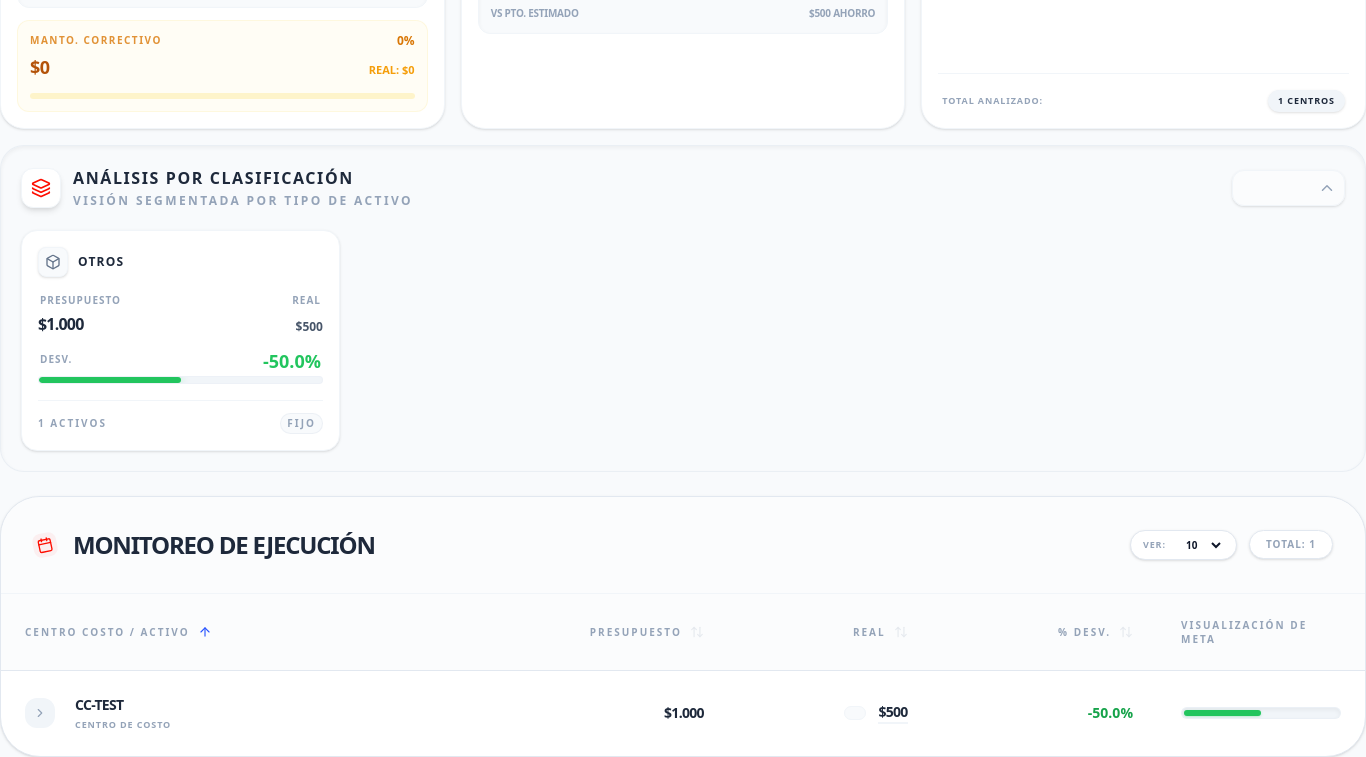
Test case: ExecutionMonitor Component › debe renderizar datos correctamente y agrupar por Centro de Costo
(page scrolled)
Click the text "CC-TEST".
click(99, 705)  # box [75,695,123,714]
(page scrolled)
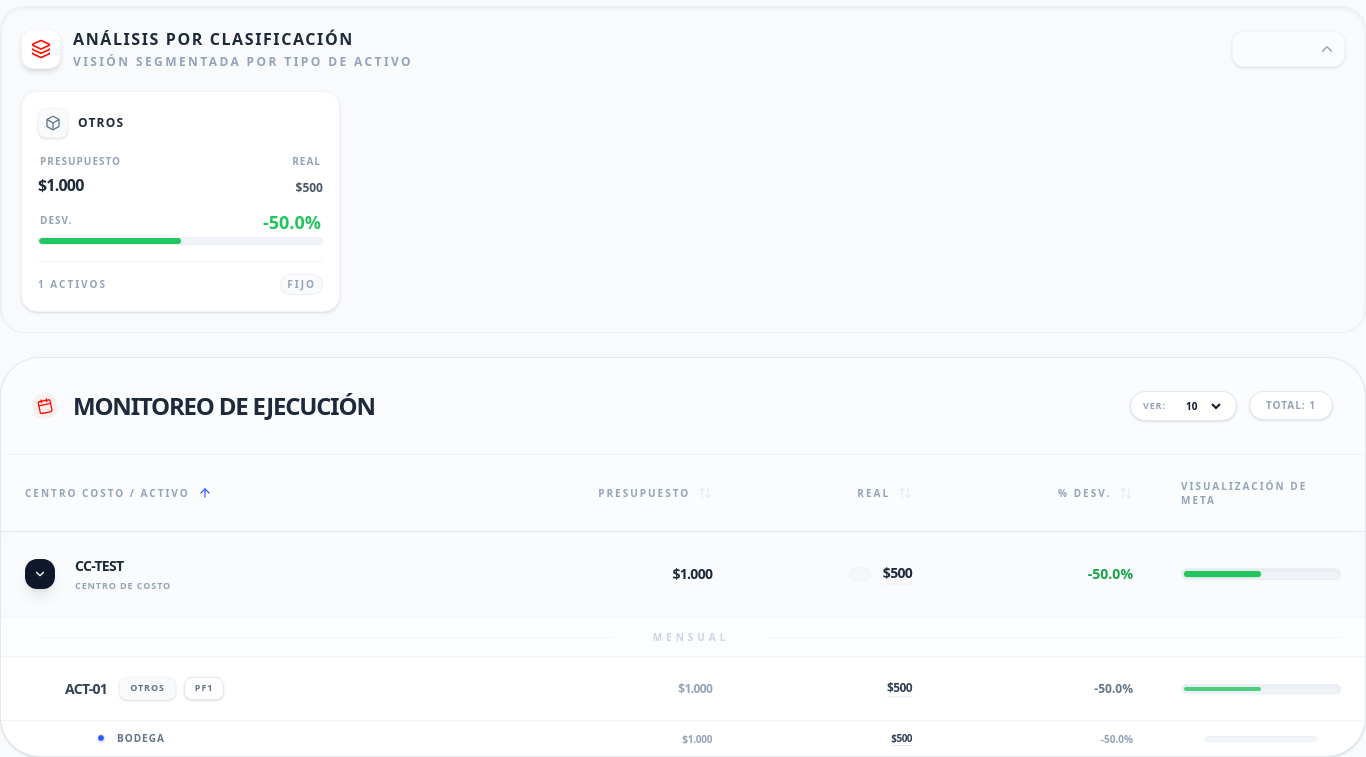
Check: the text "ACT-01" is shown, box [65,679,107,699]
